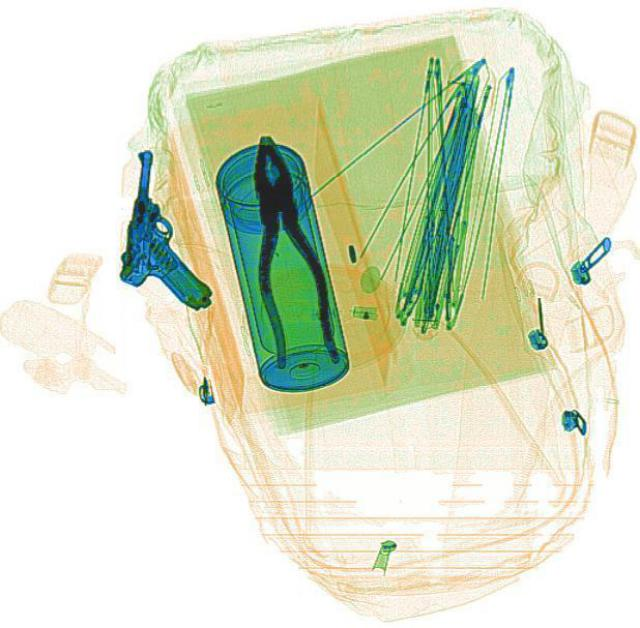Gun: (112, 146, 236, 309)
Pliers: (225, 127, 342, 372)
